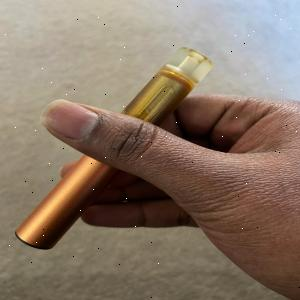Golden-E-Ciggirate: (4, 36, 230, 260)
